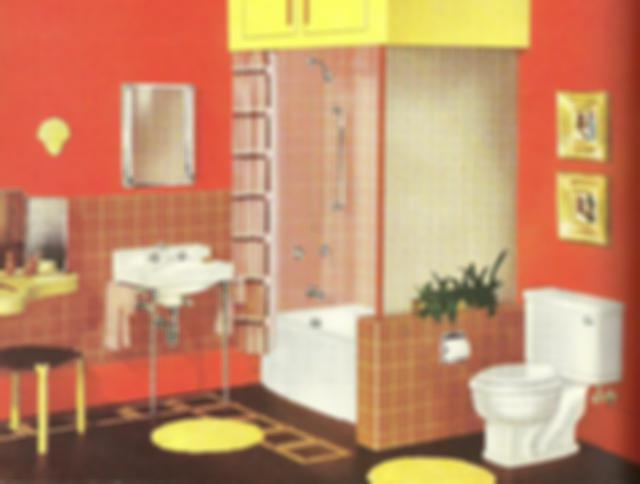Sanitario: (473, 285, 627, 467), (109, 231, 236, 300)
